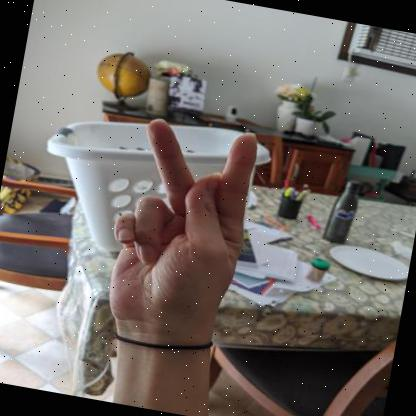K: (109, 118, 256, 347)
